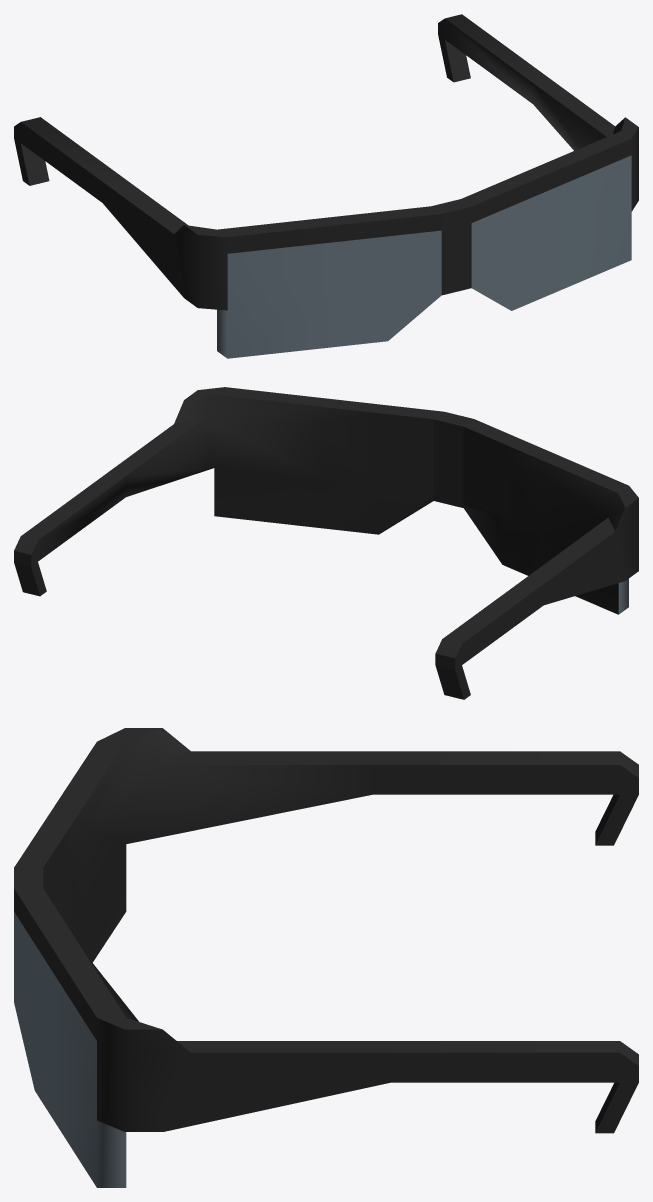
File: tokar_face_model_2.gltf
The picture shows the model from 3 angles, top to bottom: view 1: azimuth 30°, elevation 25°; view 2: azimuth 150°, elevation 25°; view 3: azimuth 270°, elevation 25°; orthographic projection. The views are drawn at different scales.
Parts seen in each view (by area): view 1: Куб; view 2: Куб; view 3: Куб.
Boxes of the visible parts, x1,y1,x2,y2 form: Куб: [14, 14, 638, 358]; Куб: [14, 387, 638, 699]; Куб: [14, 728, 638, 1187].
Size of the model in its own units: 16.3 by 4.29 by 14.28.
